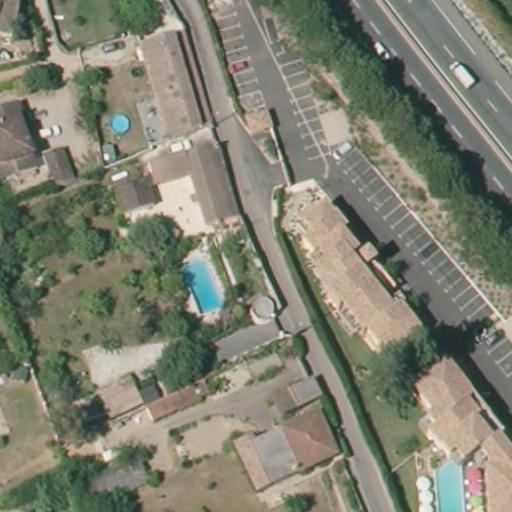pool: (176, 251, 228, 316), (427, 457, 467, 510), (107, 111, 130, 136)
